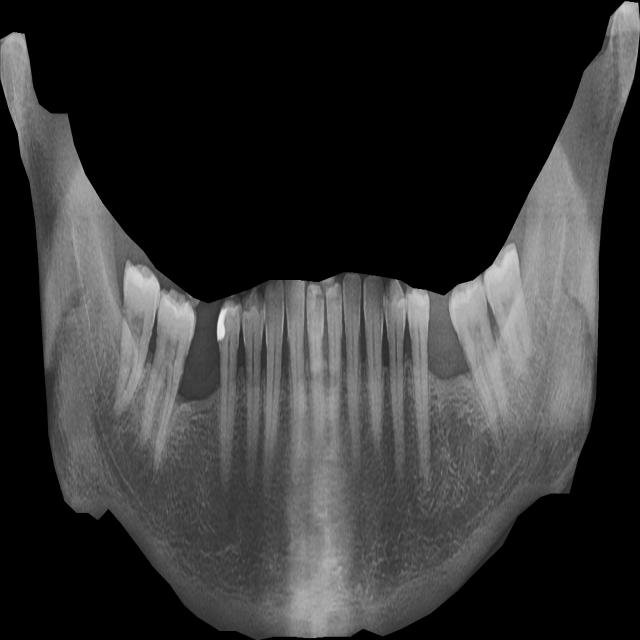mandibula: (0, 1, 640, 640)
